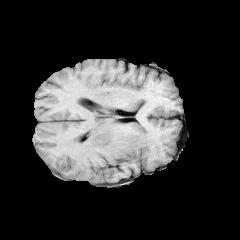glioma: (59, 129, 151, 161)
